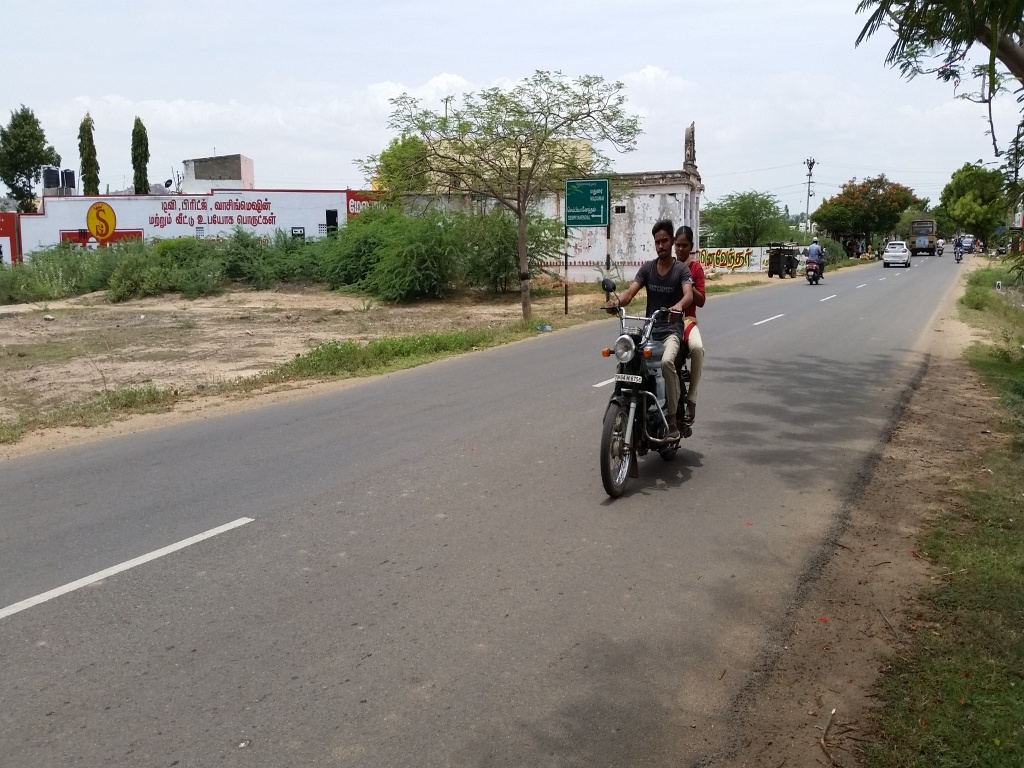biker: (546, 197, 772, 505)
nohelmet: (650, 213, 677, 266), (673, 221, 701, 267)
